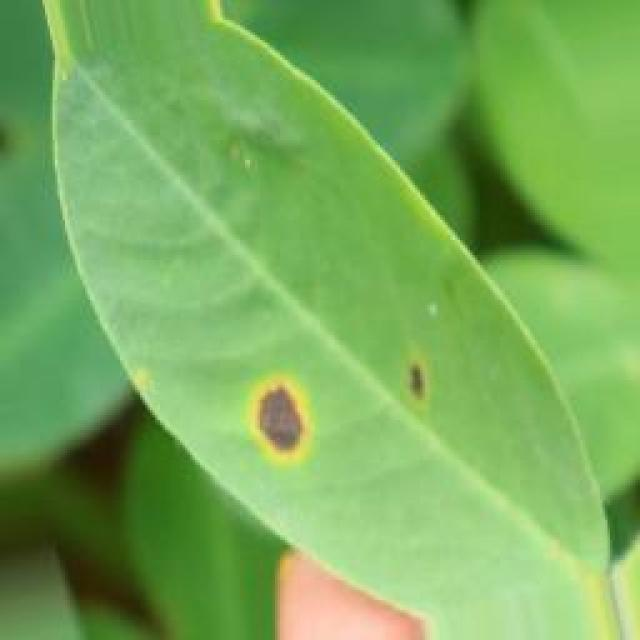Sigatoka: (242, 370, 334, 470), (375, 334, 434, 432), (112, 352, 187, 419)
